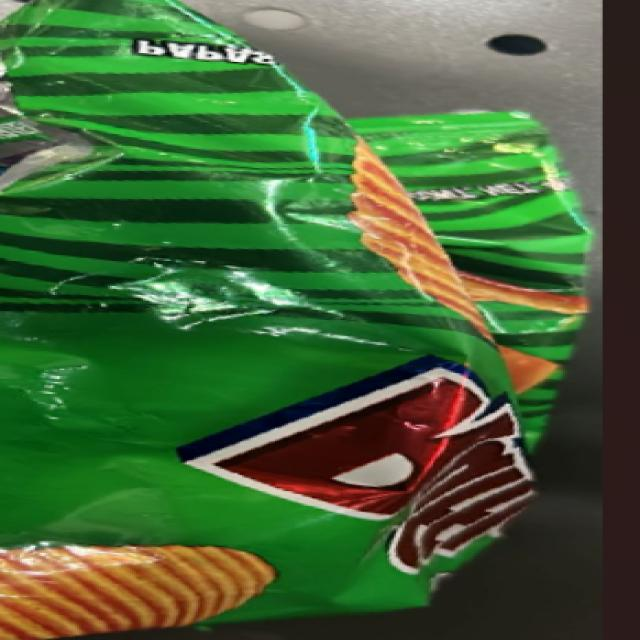rufflesQueso: (15, 11, 538, 630)
